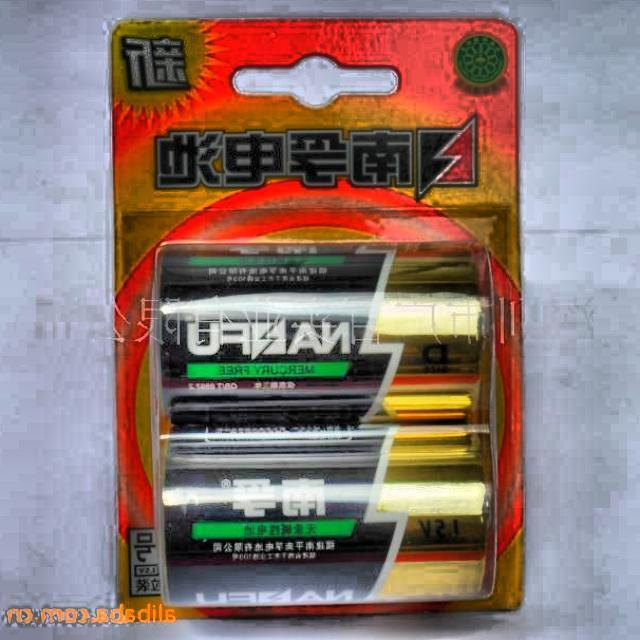battery: (159, 424, 493, 606), (157, 246, 487, 429)
